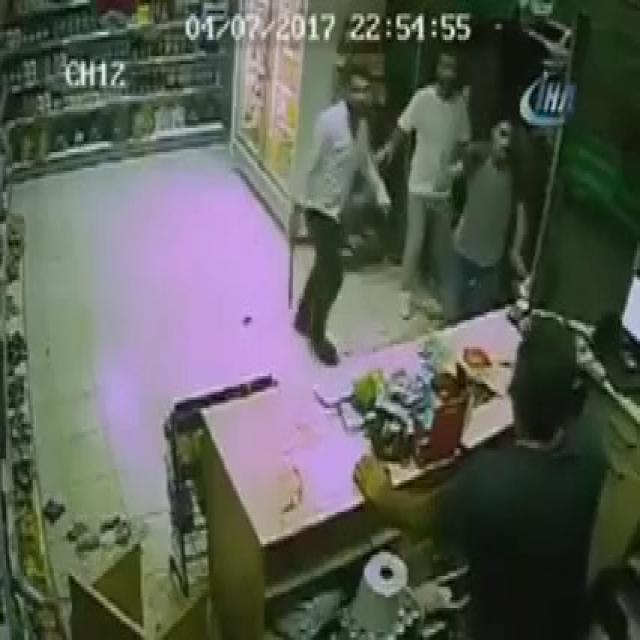fight: (382, 45, 524, 317)
